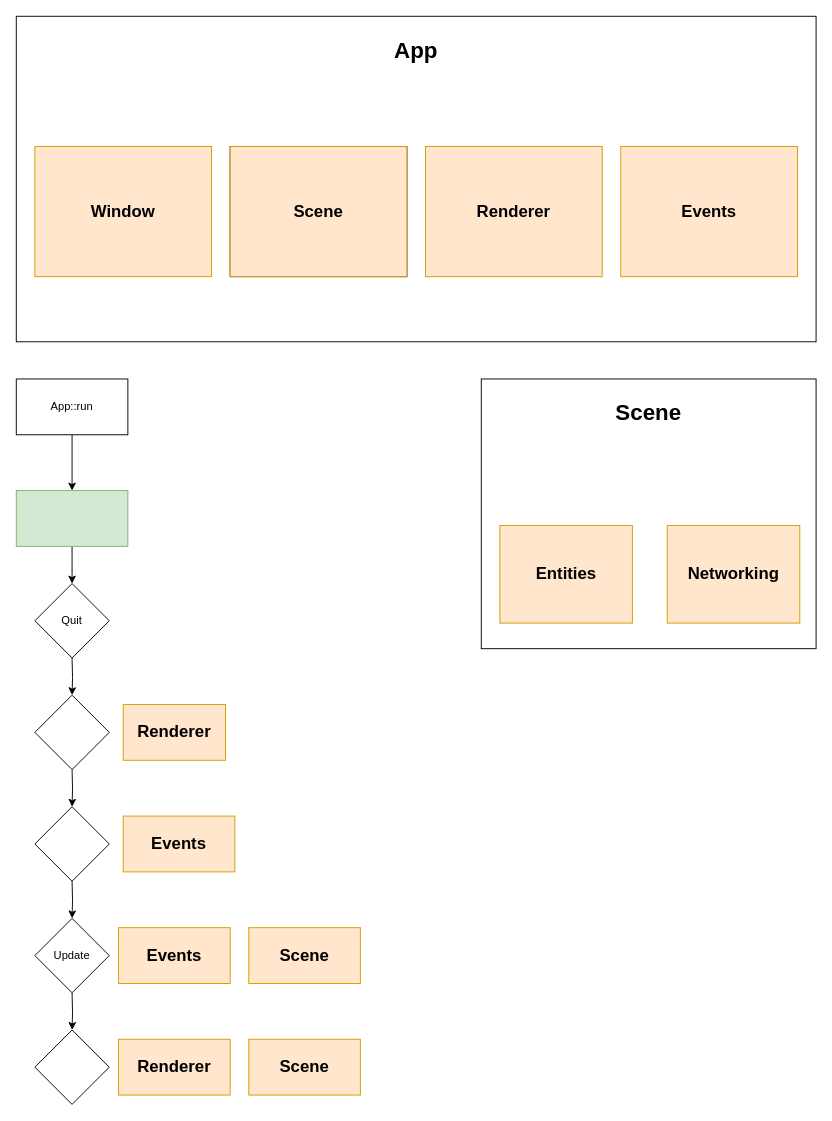
Image size: 832x1121. Some labels were removed from this diagram. The centre of each missing label's shape, as x and y in pixels:
Event Loop: point (71, 518)
Interaction: point (71, 843)
Render: point (71, 1066)
Resize: point (71, 732)
